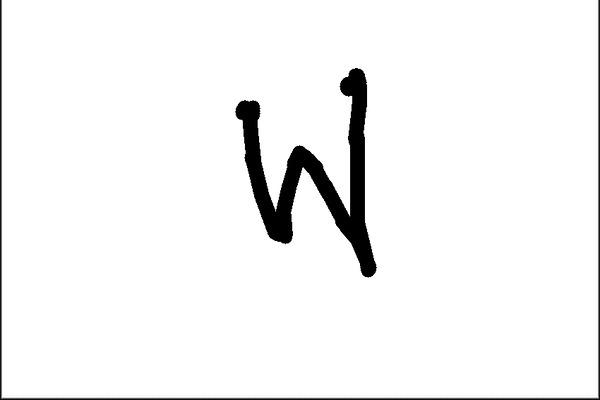w: (209, 57, 396, 287)
